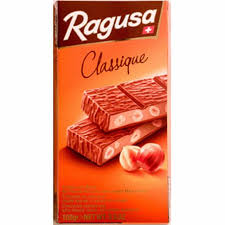Chocolate: (47, 2, 182, 225)
